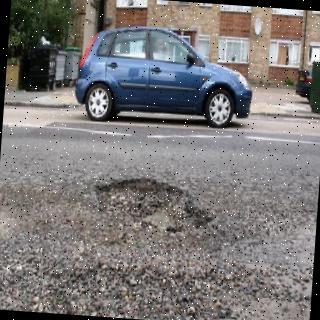pothole: (96, 174, 222, 236)
